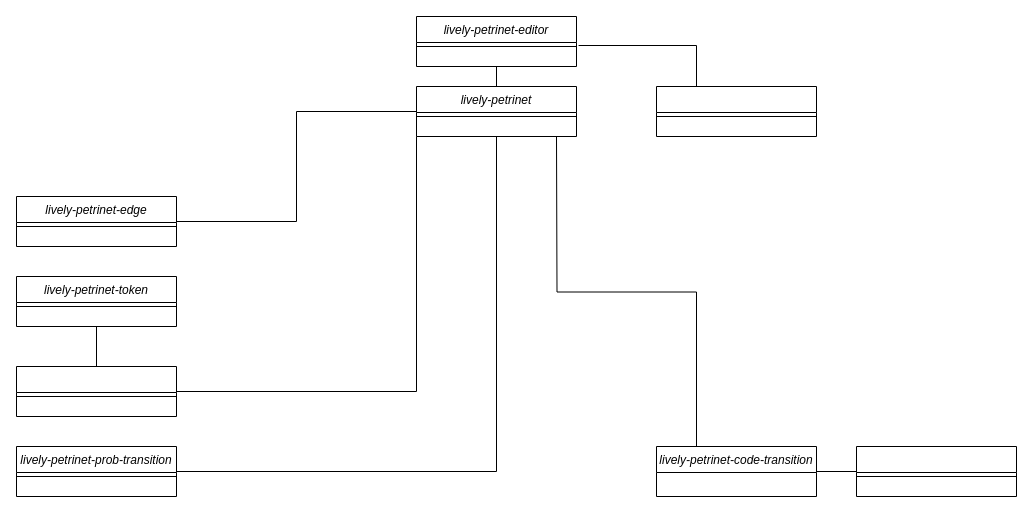
Image size: 1033x513. Some labels were removed from this diagram. Each missing label, with the box of its shape:
lively-petrinet-code-editor: (856, 446, 1016, 496)
lively-petrinet-place: (16, 366, 176, 416)
lively-petrinet-toolbar: (656, 86, 816, 136)
